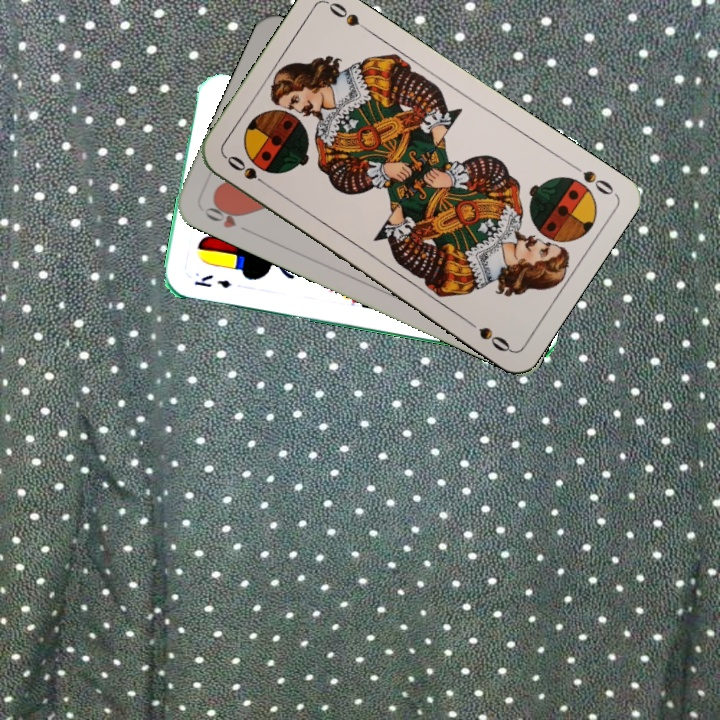EK: (190, 270, 234, 291)
HO: (200, 198, 246, 231)
SO: (221, 151, 274, 192), (565, 159, 616, 198)
